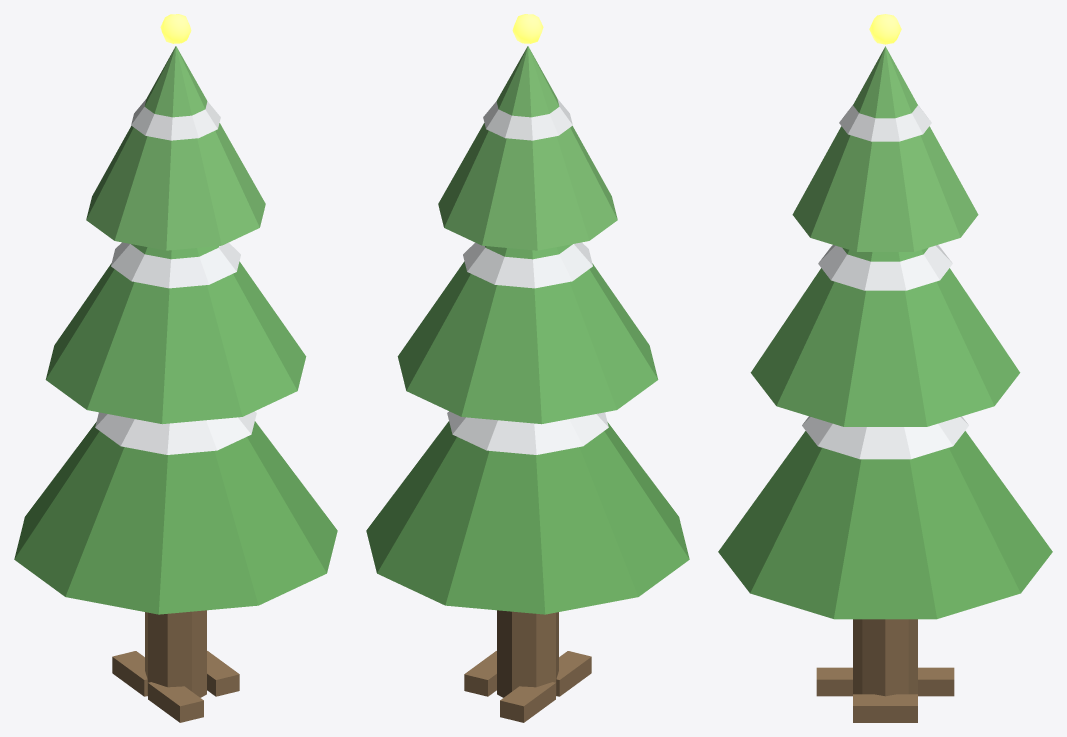
File: tree_pine.glb
The picture shows the model from 3 angles, left to right: view 1: azimuth 30°, elevation 25°; view 2: azimuth 150°, elevation 25°; view 3: azimuth 270°, elevation 25°; orthographic projection.
Visible parts, largest first — view 1: Cone, Cone.002, Cone.004, Cylinder, Cone.001, Cone.003, Cone.005, Cube.002, Cube.001, Cube, Sphere; view 2: Cone, Cone.002, Cone.004, Cylinder, Cone.001, Cone.003, Cone.005, Cube.001, Cube.002, Cube, Sphere; view 3: Cone, Cone.002, Cone.004, Cylinder, Cone.001, Cone.003, Cone.005, Cube, Cube.001, Cube.002, Sphere.
Part boxes in pixels (<box>): Cone: <box>14,421,337,614</box>; Cone.002: <box>45,244,306,424</box>; Cone.004: <box>86,46,265,250</box>; Cylinder: <box>145,610,206,697</box>; Cone.001: <box>95,411,256,454</box>; Cone.003: <box>111,242,240,288</box>; Cone.005: <box>131,99,220,140</box>; Cube.002: <box>148,682,203,722</box>; Cube.001: <box>112,651,147,696</box>; Cube: <box>207,651,239,696</box>; Sphere: <box>160,14,191,43</box>; Cone: <box>366,421,689,614</box>; Cone.002: <box>397,244,658,424</box>; Cone.004: <box>438,46,617,250</box>; Cylinder: <box>497,610,558,697</box>; Cone.001: <box>447,411,608,454</box>; Cone.003: <box>463,242,592,288</box>; Cone.005: <box>483,99,572,140</box>; Cube.001: <box>500,682,555,722</box>; Cube.002: <box>556,651,591,696</box>; Cube: <box>464,651,496,696</box>; Sphere: <box>512,14,543,43</box>; Cone: <box>718,431,1052,619</box>; Cone.002: <box>750,248,1020,426</box>; Cone.004: <box>792,46,978,251</box>; Cylinder: <box>853,619,917,696</box>; Cone.001: <box>802,416,968,459</box>; Cone.003: <box>818,245,952,290</box>; Cone.005: <box>839,105,931,141</box>; Cube: <box>853,694,917,722</box>; Cube.001: <box>918,667,954,696</box>; Cube.002: <box>816,667,852,696</box>; Sphere: <box>869,14,901,44</box>.
Bounding box in the file's own units: 1.37 × 3.25 × 1.44.
